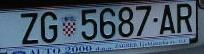.: (153, 18, 159, 22)
5: (80, 9, 98, 40)
6: (99, 7, 116, 40)
7: (135, 5, 152, 36)
8: (119, 7, 134, 38)
A: (159, 5, 176, 34)
G: (41, 12, 58, 42)
R: (177, 4, 193, 34)
Z: (22, 15, 38, 44)
